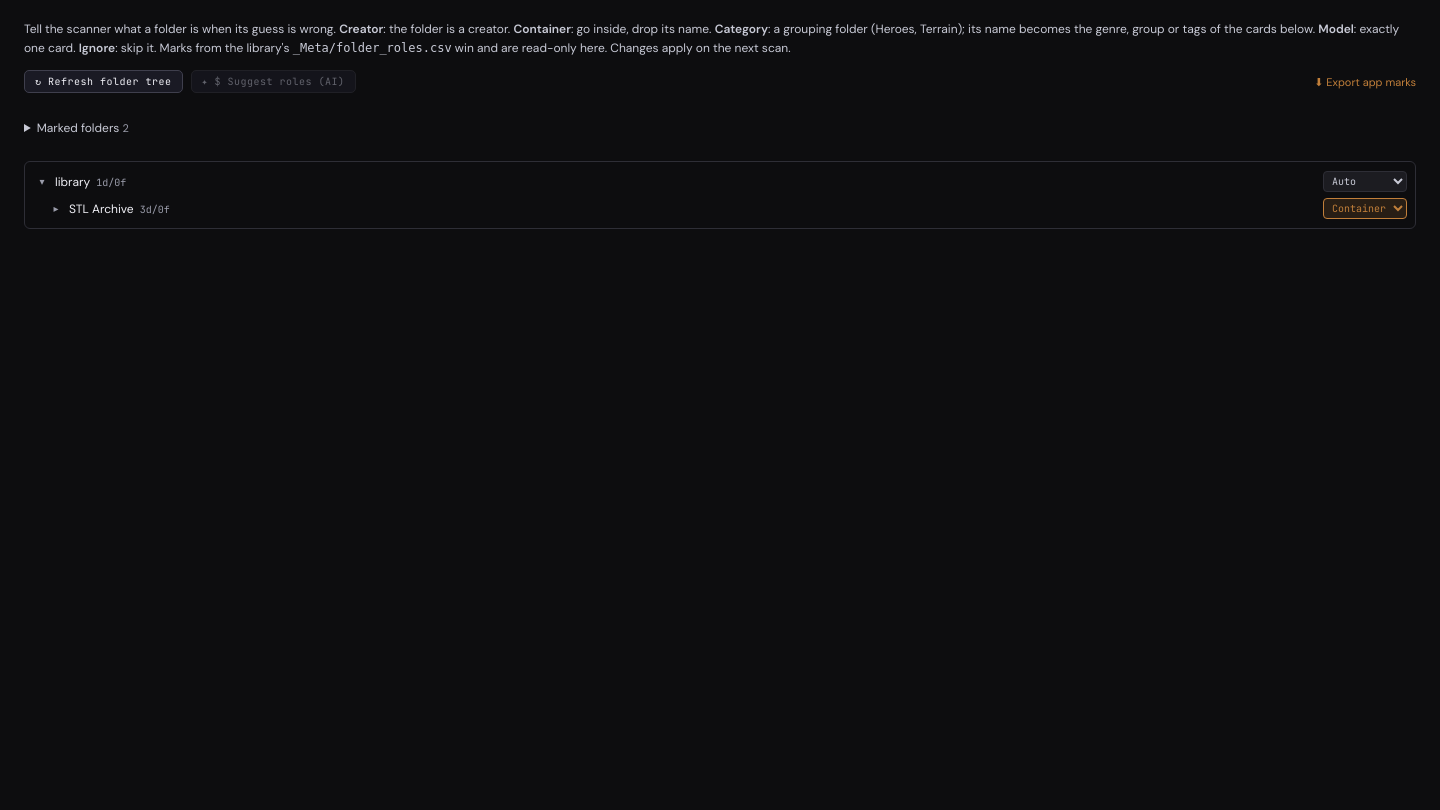
Scenario: Folder Roles panel › Rescan now while a scan runs says so
The image size is (1440, 810).
Click the button named "Expand STL Archive". click: (56, 209)
box: [49,203,63,214]
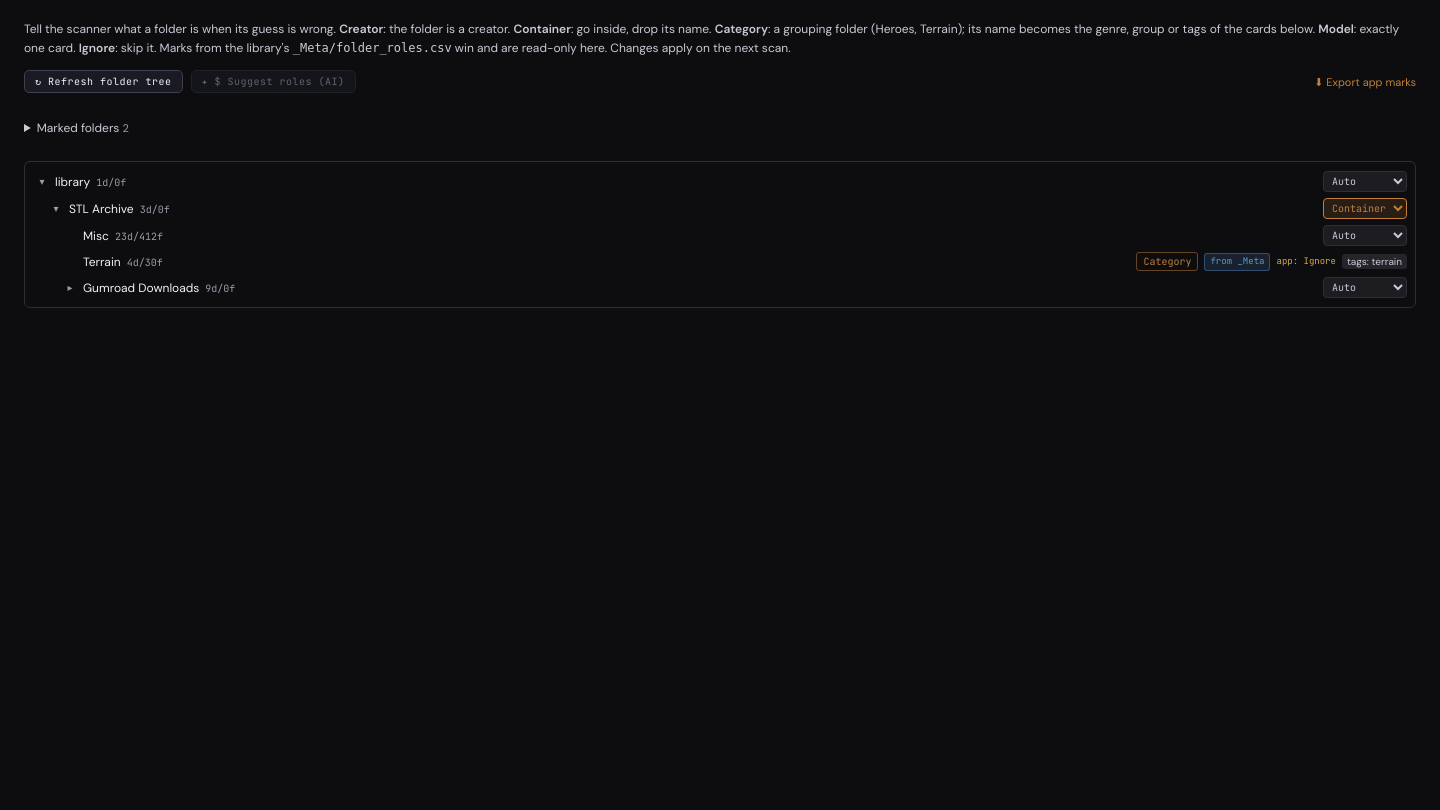
Select "Ignore" in the dropdown named "Role for Misc". click: (1365, 236)
box: [1323,225,1407,246]
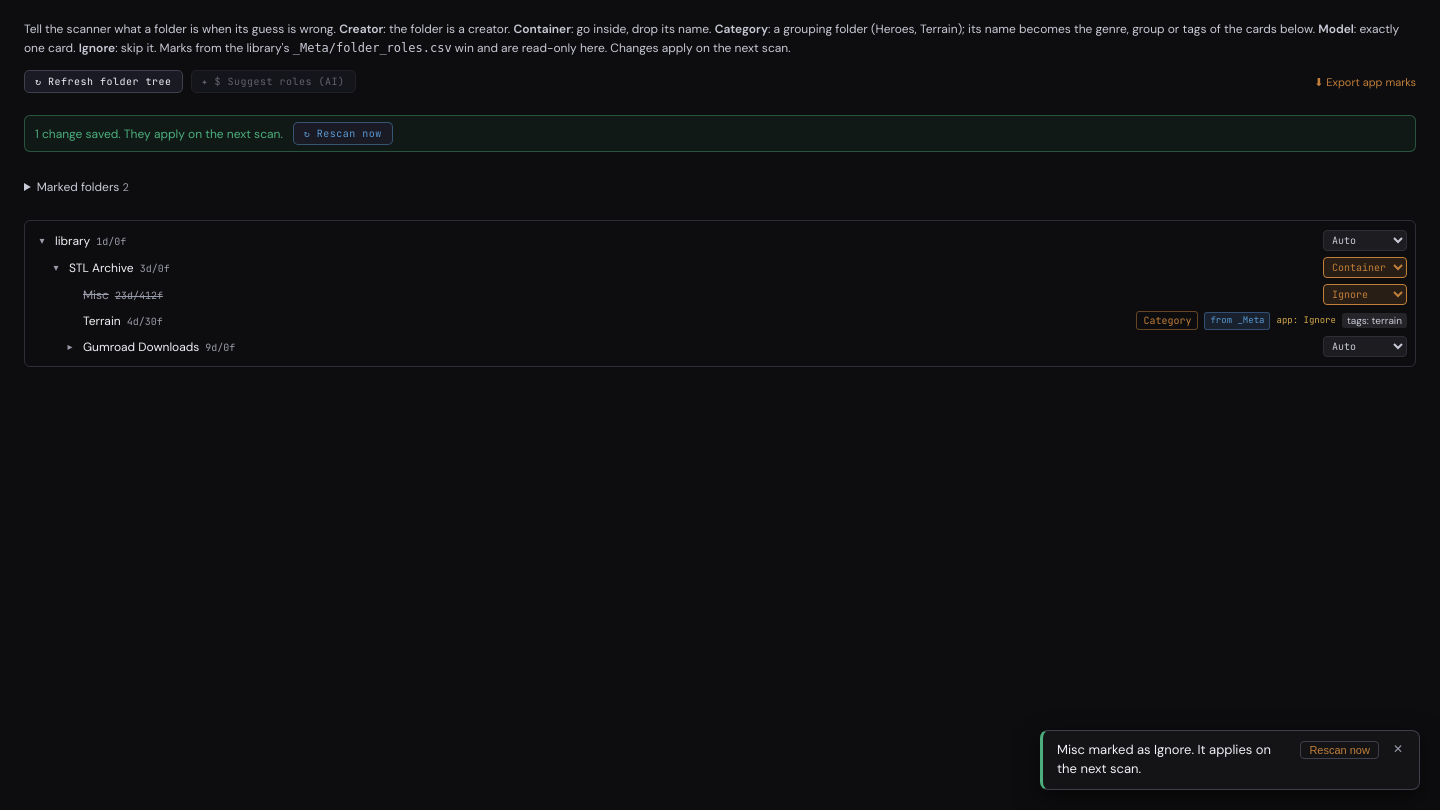
Click the button "↻ Rescan now". click: (343, 134)
box: [293,122,393,145]
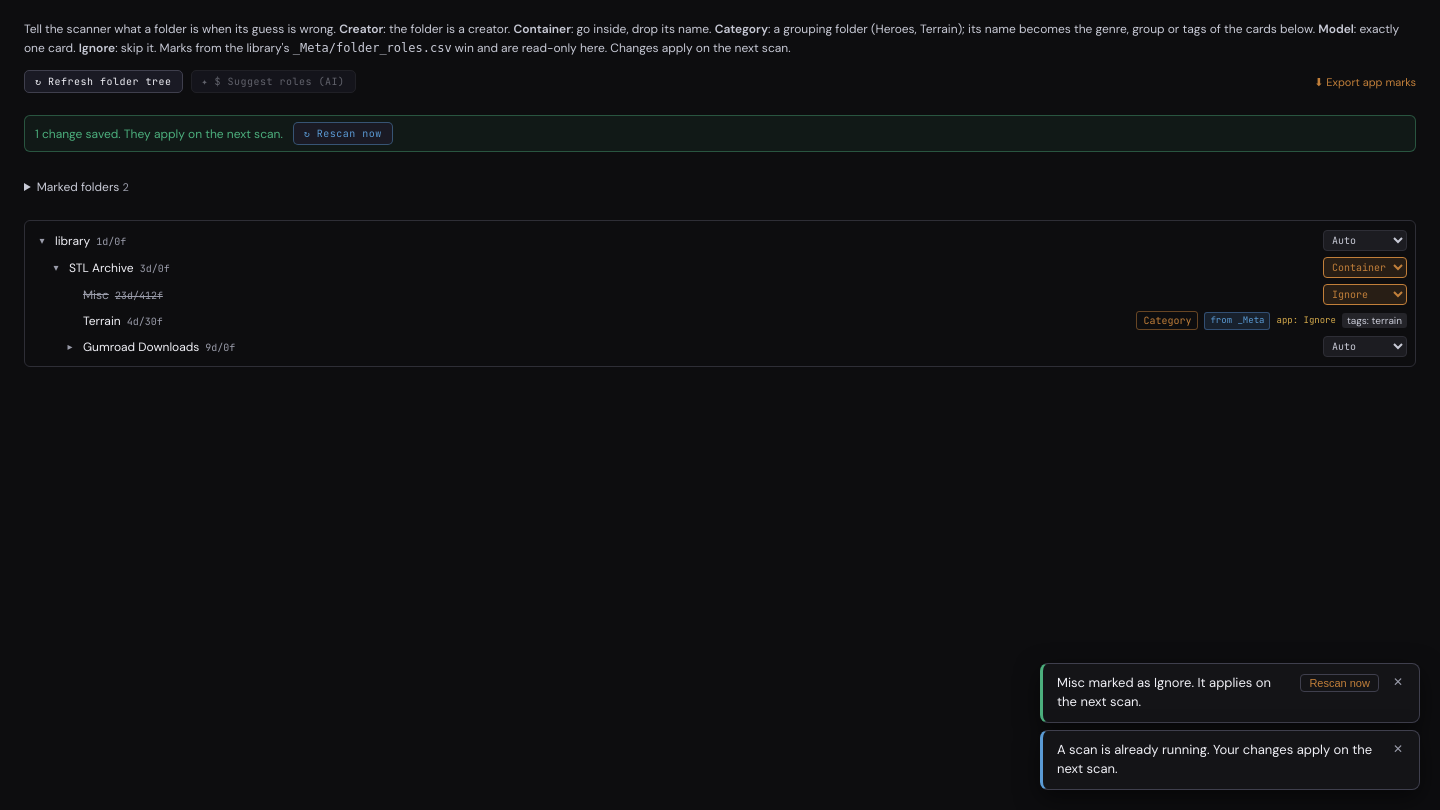
Expected: the text "A scan is already running" is shown, [1057,741,1372,777]
